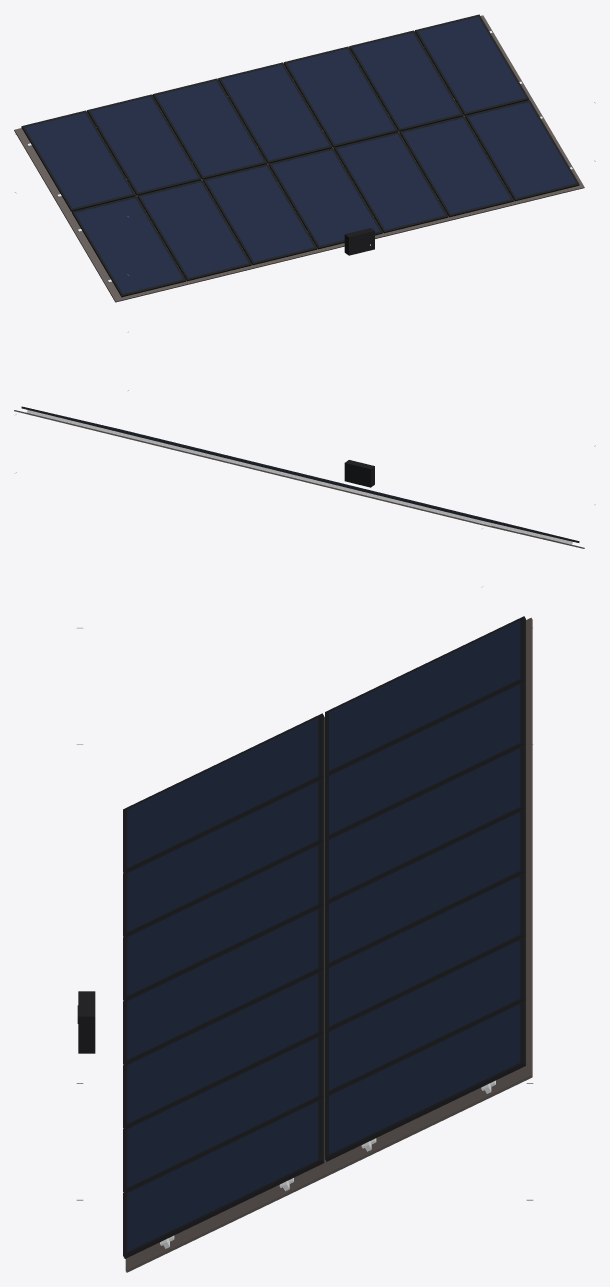
The model's file is anatomy_v2.glb.
3 views of the same model, one above another, from view 1: azimuth 30°, elevation 25°; view 2: azimuth 150°, elevation 25°; view 3: azimuth 270°, elevation 25° (orthographic). The views are drawn at different scales.
Visible parts, largest first — view 1: cell.2, cell.3, cell.7, cell.10, cell.11, cell.13, cell.5, cell.8, cell.14, cell.1, cell.6, cell.9 (+18 smaller); view 2: metal.4, roof.1, coat.100; view 3: cell.3, cell.4, cell.5, cell.8, cell.13, cell.2, cell.6, cell.7, cell.9, cell.10, cell.12, cell.14 (+18 smaller).
Boxes of the visible parts, bbox=[...] form: cell.2: bbox=[141, 182, 248, 277]; cell.3: bbox=[206, 166, 313, 261]; cell.7: bbox=[468, 102, 576, 197]; cell.10: bbox=[156, 80, 263, 176]; cell.11: bbox=[221, 64, 329, 160]; cell.13: bbox=[352, 32, 460, 128]; cell.5: bbox=[337, 134, 445, 229]; cell.8: bbox=[25, 112, 132, 208]; cell.14: bbox=[418, 16, 525, 112]; cell.1: bbox=[75, 198, 182, 293]; cell.6: bbox=[403, 118, 510, 213]; cell.9: bbox=[90, 96, 198, 192]; metal.4: bbox=[27, 410, 492, 526]; roof.1: bbox=[14, 410, 584, 548]; coat.100: bbox=[344, 460, 374, 487]; cell.3: bbox=[127, 845, 318, 995]; cell.4: bbox=[127, 909, 318, 1059]; cell.5: bbox=[127, 973, 318, 1123]; cell.8: bbox=[329, 620, 520, 770]; cell.13: bbox=[329, 940, 520, 1090]; cell.2: bbox=[127, 781, 318, 931]; cell.6: bbox=[127, 1037, 318, 1187]; cell.7: bbox=[127, 1101, 318, 1251]; cell.9: bbox=[329, 684, 520, 834]; cell.10: bbox=[329, 748, 520, 898]; cell.12: bbox=[329, 876, 520, 1026]; cell.14: bbox=[329, 1004, 520, 1154].
Bounding box in the file's own units: 8.26 × 1.72 × 3.48.
